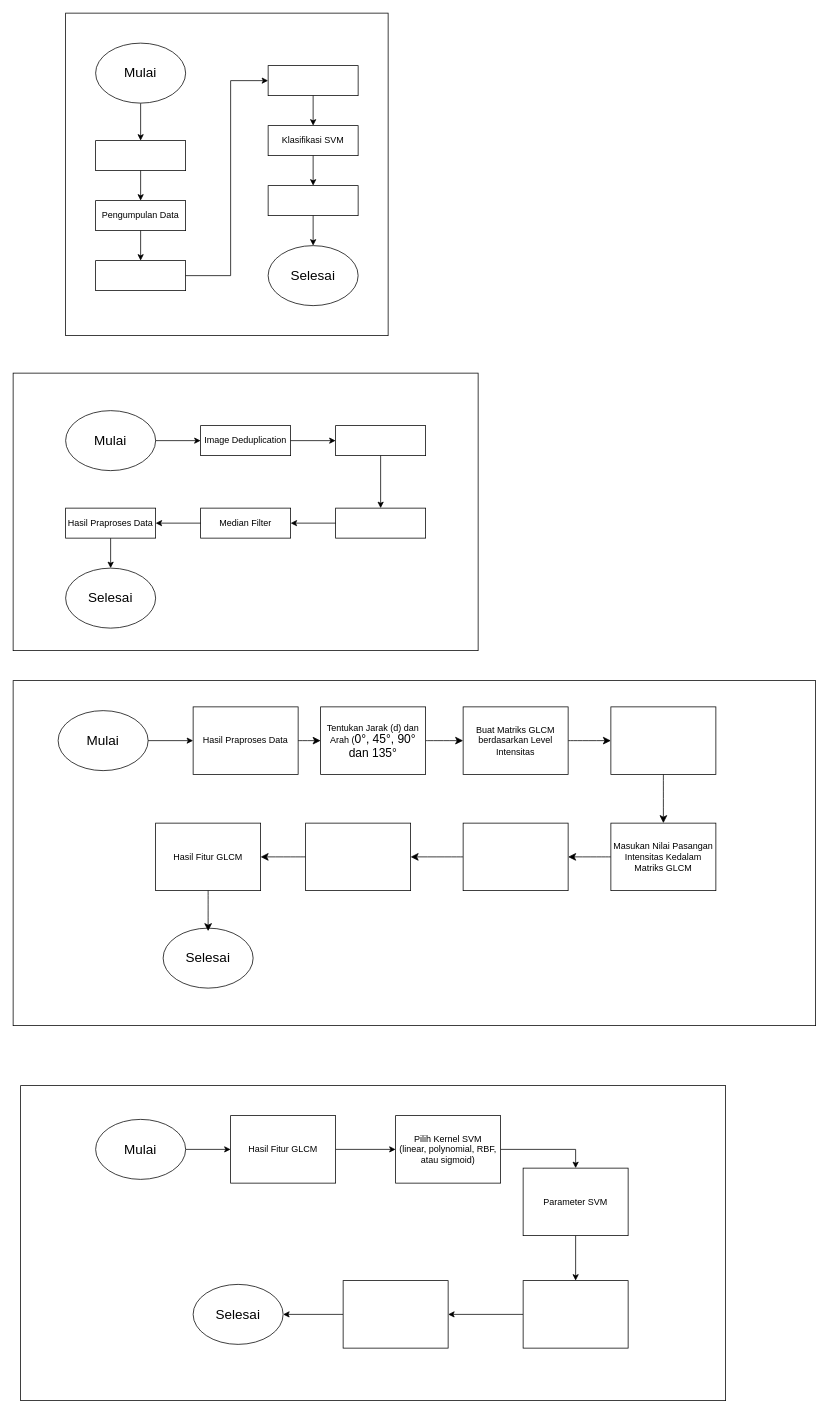
This 829x1414 diagram has some shape labels left out. The shapes that lost their labels are listed below. From the top down, each one's centre as x and y in pixels, then its label:
At point 312,80: "Ekstraksi Fitur GLCM".
At point 140,155: "Studi Literatur".
At point 312,200: "Evaluasi Hasil Klasifikasi".
At point 140,275: "Praproses Data".
At point 380,440: "Konversi Citra Ke Grayscale".
At point 380,522: "Resize Image".
At point 663,740: "Hitung Kemmunculan Pasangan Intensitas Sesuai Jarak dan Arah".
At point 358,856: "Hitung statistik fitur GLCM (Kontras, Korelasi, Energi dan Homogenitas)".
At point 515,856: "Normalisasi Matriks GLCM".
At point 395,1314: "Hasil Klasifikasi".
At point 575,1314: "Data Testing & Data Uji".
